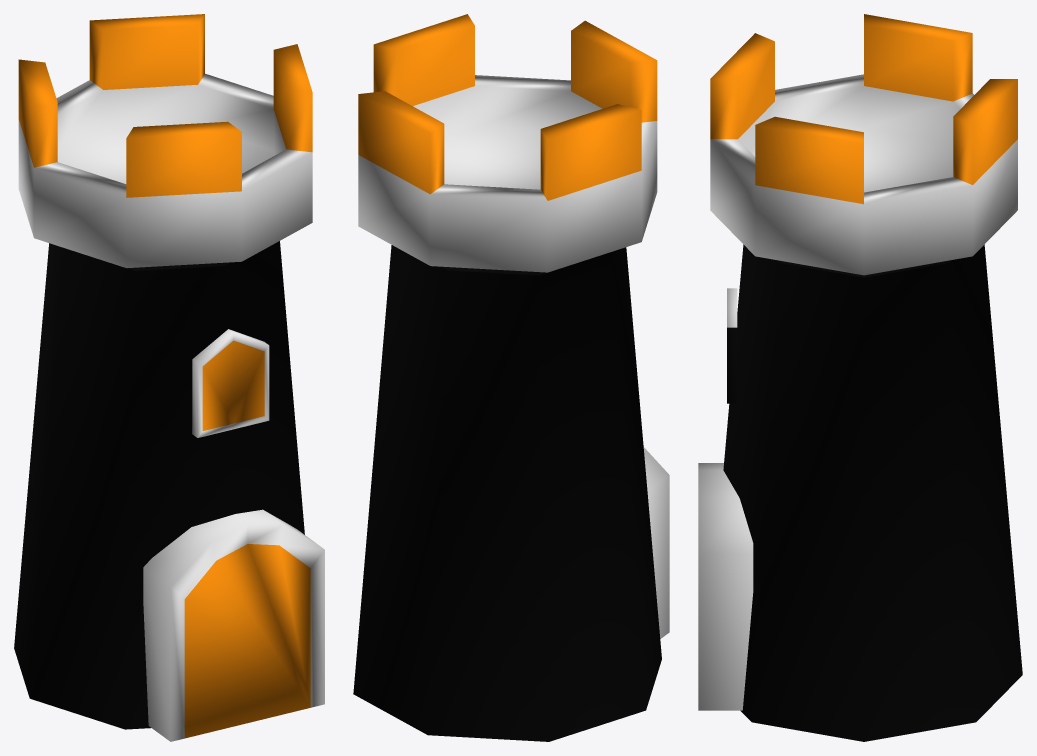
3 views of the same model, side by side, from view 1: azimuth 30°, elevation 25°; view 2: azimuth 150°, elevation 25°; view 3: azimuth 270°, elevation 25° (orthographic).
Parts seen in each view (by area): view 1: Base2; view 2: Base2; view 3: Base2.
Part boxes in pixels (x1=…): Base2: x1=14, y1=14, x2=324, y2=741; Base2: x1=353, y1=14, x2=669, y2=741; Base2: x1=698, y1=14, x2=1022, y2=741.
Bounding box in the file's own units: 246 × 508 × 251.
